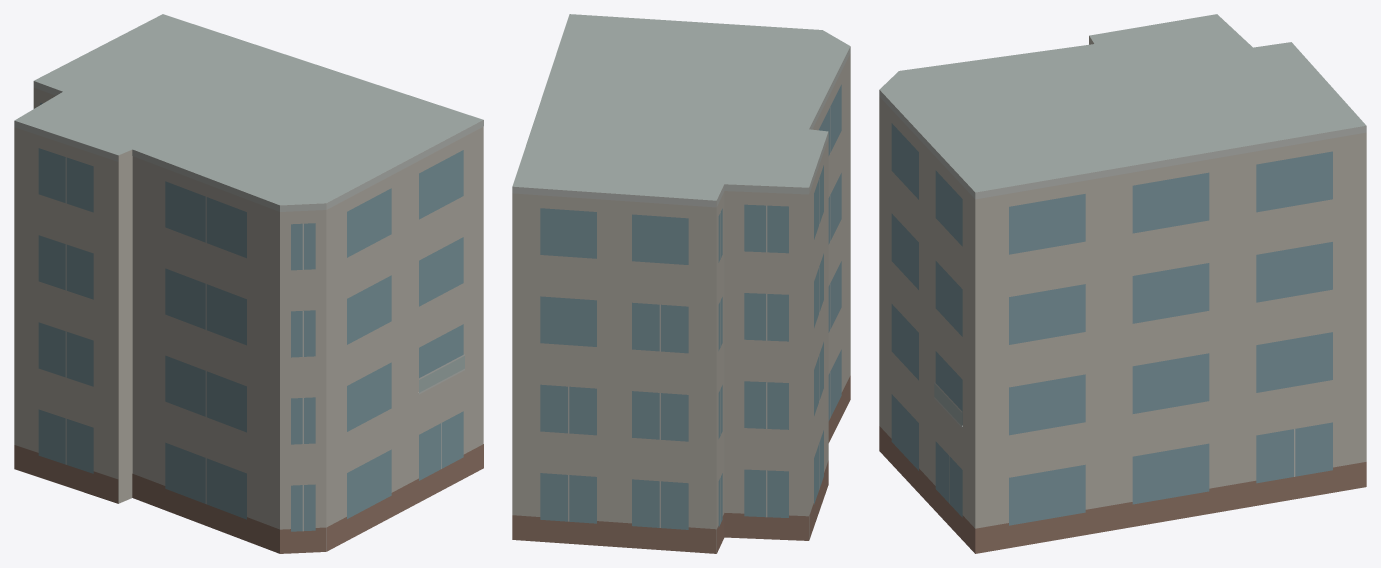
The model's file is survey-upis-32750214.glb.
3 renders of one model, left to right at view 1: azimuth 30°, elevation 25°; view 2: azimuth 150°, elevation 25°; view 3: azimuth 270°, elevation 25°, orthographic. The views are drawn at different scales.
Parts seen in each view (by area): view 1: survey-upis-32750214.tmp; view 2: survey-upis-32750214.tmp; view 3: survey-upis-32750214.tmp.
Boxes of the visible parts, x1=… form: survey-upis-32750214.tmp: x1=14, y1=14, x2=483, y2=553; survey-upis-32750214.tmp: x1=512, y1=14, x2=850, y2=553; survey-upis-32750214.tmp: x1=879, y1=14, x2=1366, y2=553.
Size of the model in its own units: 13.58 by 12.8 by 15.65.
